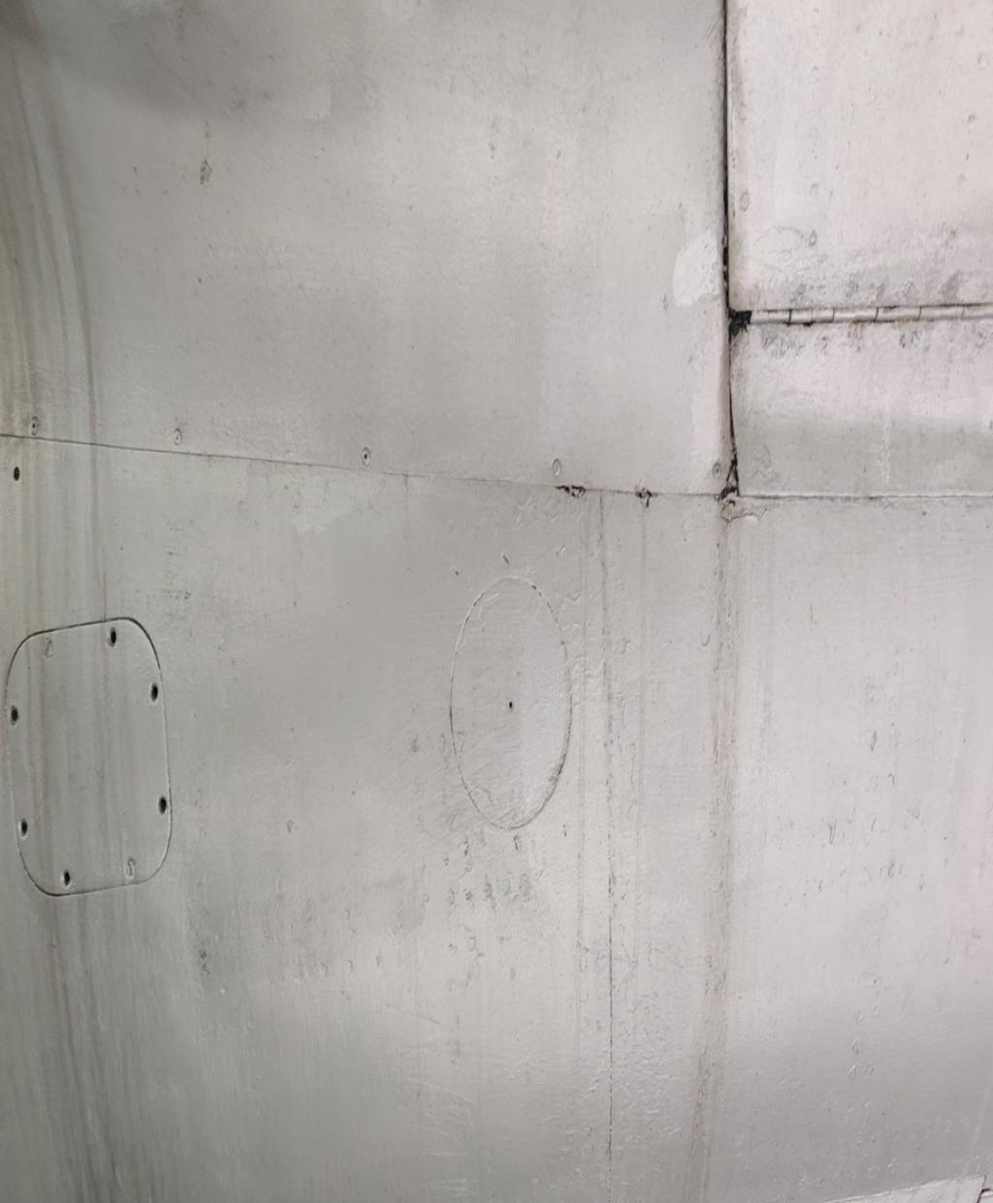crack: (711, 373, 746, 501)
